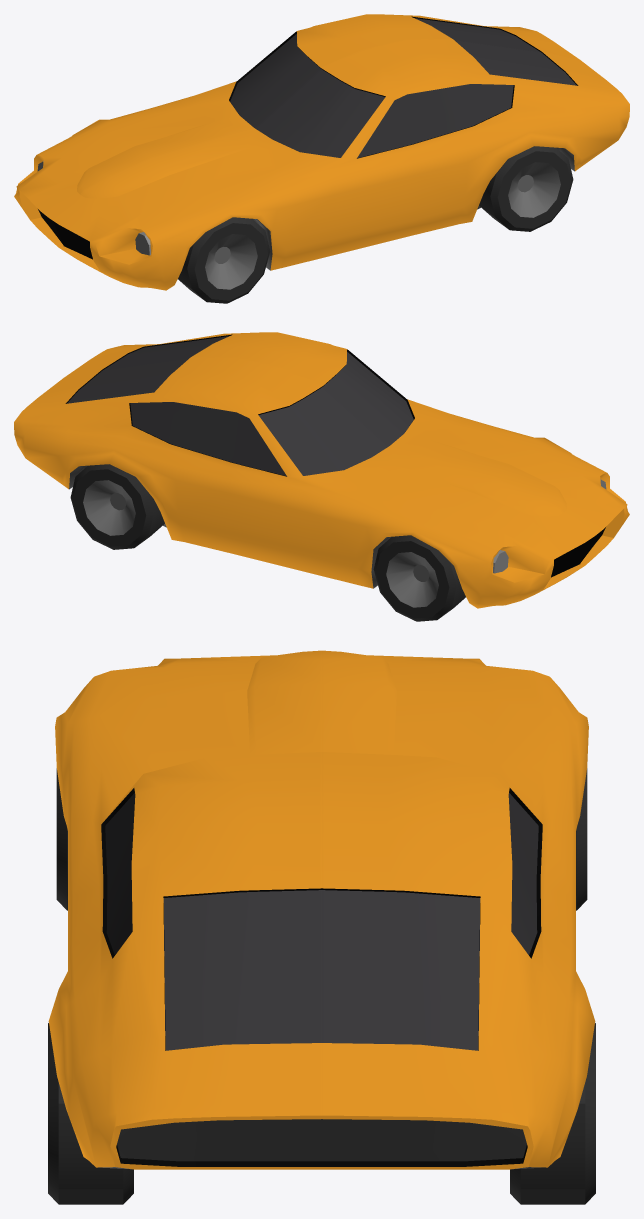
The model's file is datsun-no-texture.glb.
3 views of the same model, one above another, from view 1: azimuth 30°, elevation 25°; view 2: azimuth 150°, elevation 25°; view 3: azimuth 270°, elevation 25° (orthographic). The views are drawn at different scales.
Visible parts, largest first — view 1: Body, Wheels; view 2: Body, Wheels; view 3: Body, Wheels.
Part boxes in pixels (box(x1,y1,x2,y2)): Body: box(14, 14, 629, 290); Wheels: box(178, 146, 573, 303); Body: box(14, 332, 629, 608); Wheels: box(70, 464, 465, 621); Body: box(48, 650, 595, 1169); Wheels: box(48, 768, 595, 1204).
Bounding box in the file's own units: 4.08 × 1.16 × 1.83.
